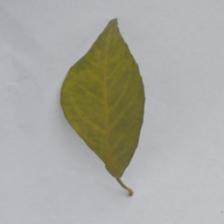greening: (55, 32, 152, 160)
